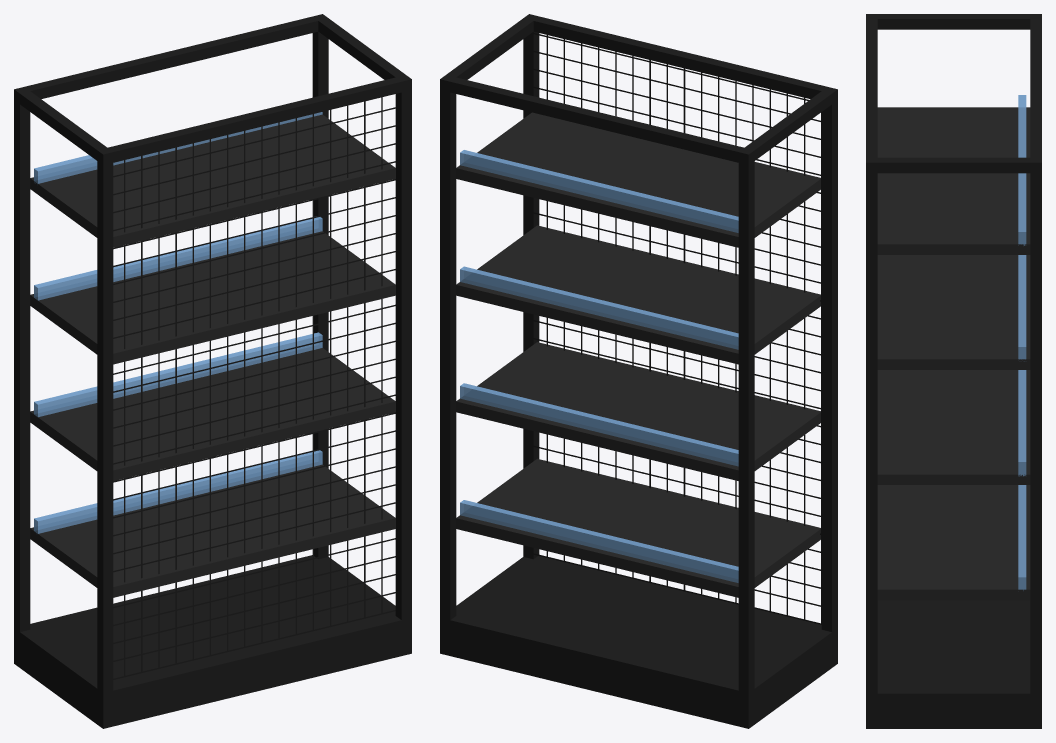
File: ConvenienceShelf.obj
The picture shows the model from 3 angles, left to right: view 1: azimuth 30°, elevation 25°; view 2: azimuth 150°, elevation 25°; view 3: azimuth 270°, elevation 25°; orthographic projection.
Parts seen in each view (by area): view 1: Base, Back_Grid, Shelf_1, Shelf_3, Shelf_2, Shelf_4, Corner_Pillar_1, Corner_Pillar_2, Corner_Pillar_3, Top_Frame_Back, Top_Frame_Front, Blue_Edge_2 (+6 smaller); view 2: Base, Shelf_2, Shelf_1, Shelf_3, Shelf_4, Back_Grid, Corner_Pillar_3, Corner_Pillar_4, Corner_Pillar_1, Top_Frame_Front, Top_Frame_Back, Blue_Edge_3 (+6 smaller); view 3: Base, Shelf_4, Shelf_1, Shelf_2, Shelf_3, Corner_Pillar_2, Corner_Pillar_4, Top_Frame_Right, Top_Frame_Left, Top_Frame_Front, Top_Frame_Back, Blue_Edge_4 (+3 smaller).
Part boxes in pixels (left/top/right/bottom): Base: left=14, top=555, right=411, bottom=728; Back_Grid: left=113, top=97, right=395, bottom=679; Shelf_1: left=30, top=462, right=395, bottom=597; Shelf_3: left=30, top=229, right=395, bottom=364; Shelf_2: left=30, top=345, right=395, bottom=480; Shelf_4: left=30, top=113, right=395, bottom=247; Corner_Pillar_1: left=97, top=148, right=113, bottom=692; Corner_Pillar_2: left=395, top=75, right=411, bottom=619; Corner_Pillar_3: left=14, top=87, right=30, bottom=631; Top_Frame_Back: left=97, top=75, right=411, bottom=163; Top_Frame_Front: left=14, top=14, right=327, bottom=98; Blue_Edge_2: left=34, top=332, right=322, bottom=417; Base: left=440, top=556, right=837, bottom=728; Shelf_2: left=456, top=342, right=820, bottom=480; Shelf_1: left=456, top=458, right=820, bottom=597; Shelf_3: left=456, top=225, right=820, bottom=364; Shelf_4: left=456, top=112, right=820, bottom=247; Back_Grid: left=533, top=29, right=822, bottom=624; Corner_Pillar_3: left=738, top=148, right=754, bottom=692; Corner_Pillar_4: left=440, top=75, right=456, bottom=619; Corner_Pillar_1: left=821, top=87, right=837, bottom=631; Top_Frame_Front: left=441, top=75, right=754, bottom=164; Top_Frame_Back: left=524, top=14, right=837, bottom=98; Blue_Edge_3: left=460, top=266, right=738, bottom=349; Base: left=866, top=600, right=1041, bottom=728; Shelf_4: left=877, top=107, right=1030, bottom=254; Shelf_1: left=877, top=485, right=1030, bottom=600; Shelf_2: left=877, top=370, right=1030, bottom=484; Shelf_3: left=877, top=255, right=1030, bottom=369; Corner_Pillar_2: left=866, top=157, right=877, bottom=693; Corner_Pillar_4: left=1030, top=157, right=1041, bottom=693; Top_Frame_Right: left=877, top=157, right=1030, bottom=173; Top_Frame_Left: left=877, top=14, right=1030, bottom=29; Top_Frame_Front: left=1030, top=14, right=1041, bottom=172; Top_Frame_Back: left=866, top=14, right=877, bottom=172; Blue_Edge_4: left=1018, top=95, right=1026, bottom=245.
Size of the model in its own units: 0.9 by 1.6 by 0.45.
